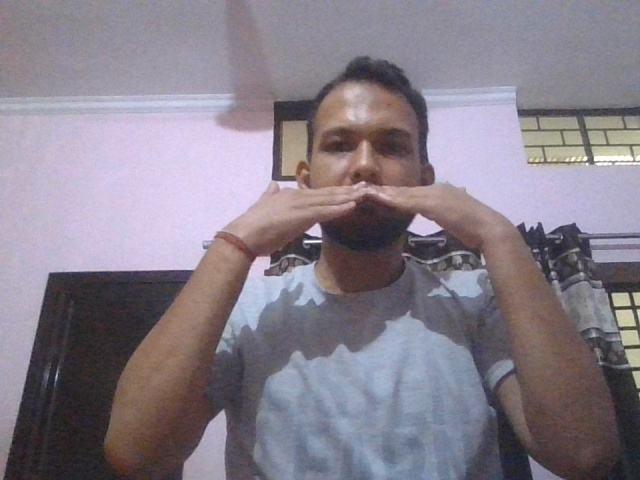thanks: (215, 179, 523, 260)
